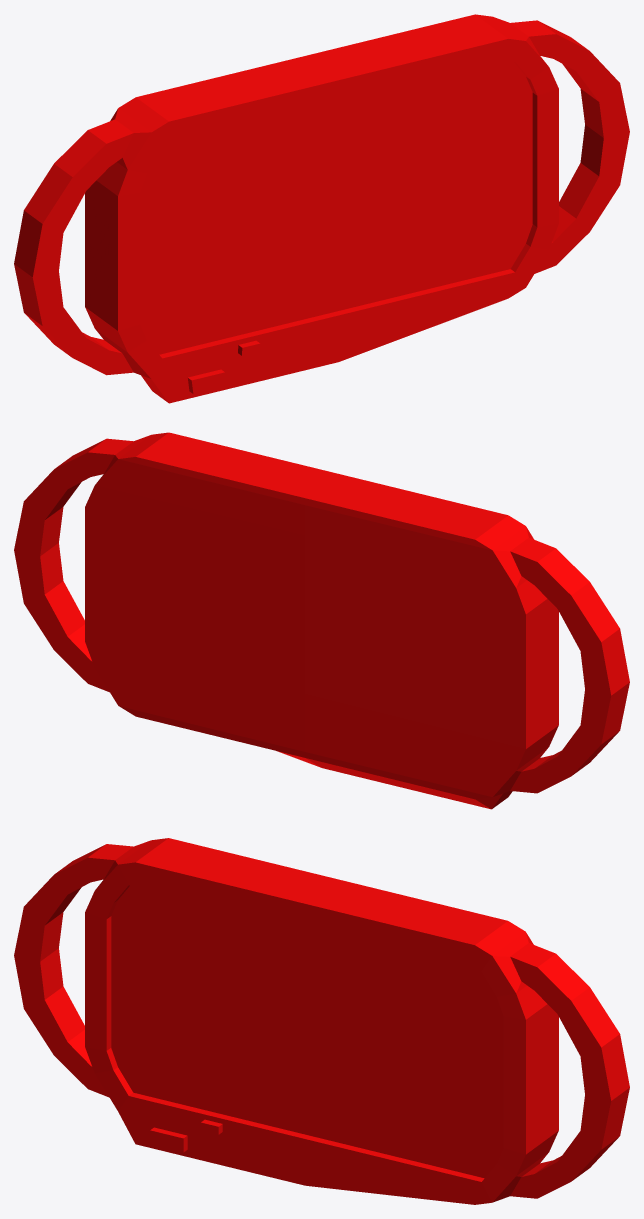
File: Scanner v1.fbx
3 views of the same model, one above another, from view 1: azimuth 30°, elevation 25°; view 2: azimuth 150°, elevation 25°; view 3: azimuth 330°, elevation 25° (orthographic).
Visible parts, largest first — view 1: Polygon; view 2: Polygon; view 3: Polygon.
Boxes of the visible parts, x1,y1,x2,y2 form: Polygon: (14,14,629,403); Polygon: (14,432,629,809); Polygon: (14,838,629,1204).
Bounding box in the file's own units: 674 × 304 × 73.84.
